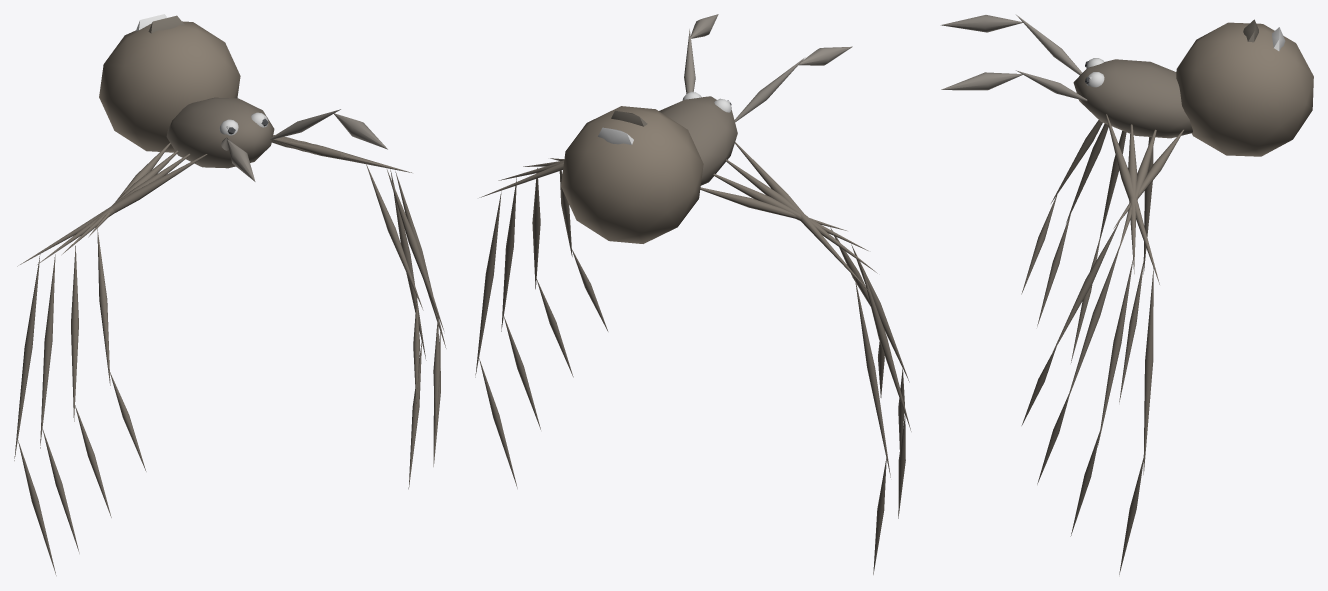
Rendered from eriovixia-laglaizei.glb.
The picture shows the model from 3 angles, left to right: view 1: azimuth 30°, elevation 25°; view 2: azimuth 150°, elevation 25°; view 3: azimuth 270°, elevation 25°; orthographic projection.
Parts seen in each view (by area): view 1: abdomen, cephalothorax, leg0-r0, leg1-r0, leg2-r0, leg0-l0, leg3-r0, leg2-l0, leg3-l0, leg1-l0, palp-l1; view 2: abdomen, cephalothorax, leg0-r0, leg1-r0, leg0-l0, leg2-r0, leg3-r0, leg1-l0, leg2-l0, leg3-l0, palp-r0, palp-r1; view 3: abdomen, cephalothorax, leg0-l0, leg1-l0, leg2-l0, leg3-l0, leg0-r0, leg2-r0, leg3-r0, leg1-r0, palp-l1, palp-r1 (+2 smaller).
Boxes of the visible parts, left/top/right/bottom form: abdomen: left=99, top=14, right=240, bottom=152; cephalothorax: left=166, top=97, right=274, bottom=168; leg0-r0: left=14, top=154, right=207, bottom=575; leg1-r0: left=37, top=153, right=190, bottom=553; leg2-r0: left=62, top=150, right=178, bottom=517; leg0-l0: left=272, top=139, right=426, bottom=489; leg3-r0: left=88, top=143, right=170, bottom=471; leg2-l0: left=272, top=137, right=444, bottom=438; leg3-l0: left=271, top=135, right=423, bottom=404; leg1-l0: left=272, top=138, right=446, bottom=466; palp-l1: left=333, top=113, right=387, bottom=149; abdomen: left=561, top=106, right=703, bottom=243; cephalothorax: left=659, top=96, right=737, bottom=185; leg0-r0: left=735, top=142, right=890, bottom=574; leg1-r0: left=725, top=159, right=911, bottom=518; leg0-l0: left=475, top=162, right=563, bottom=488; leg2-r0: left=713, top=173, right=909, bottom=449; leg3-r0: left=700, top=187, right=884, bottom=397; leg1-l0: left=498, top=161, right=563, bottom=429; leg2-l0: left=523, top=160, right=573, bottom=377; leg3-l0: left=550, top=158, right=608, bottom=331; palp-r0: left=734, top=57, right=805, bottom=122; palp-r1: left=798, top=46, right=852, bottom=65; abdomen: left=1176, top=19, right=1313, bottom=156; cephalothorax: left=1073, top=59, right=1192, bottom=138; leg0-l0: left=1106, top=114, right=1159, bottom=574; leg1-l0: left=1070, top=124, right=1137, bottom=536; leg2-l0: left=1037, top=129, right=1156, bottom=484; leg3-l0: left=1021, top=129, right=1183, bottom=425; leg0-r0: left=1119, top=137, right=1153, bottom=402; leg2-r0: left=1037, top=123, right=1108, bottom=326; leg3-r0: left=1021, top=120, right=1102, bottom=294; leg1-r0: left=1071, top=130, right=1126, bottom=362; palp-l1: left=941, top=72, right=1022, bottom=90; palp-r1: left=940, top=15, right=1022, bottom=32.
Bounding box in the file's own units: 0.7412 × 0.8004 × 0.582.
